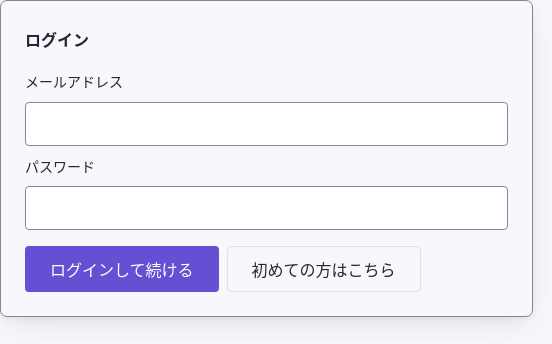
AuthPanel › does not submit twice while authentication is pending
In the field labelled "メールアドレス": (266, 124) [25, 102, 508, 146], type "reader@example.com"
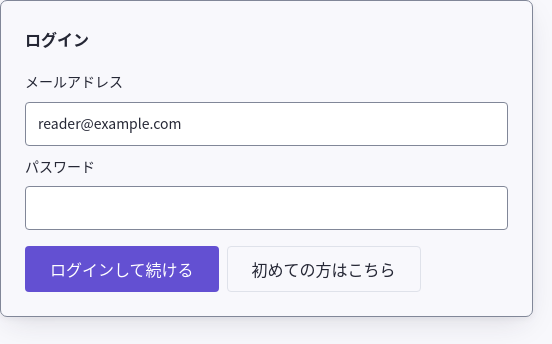
In the password field labelled "パスワード": (266, 208) [25, 186, 508, 230], type "correct-password"
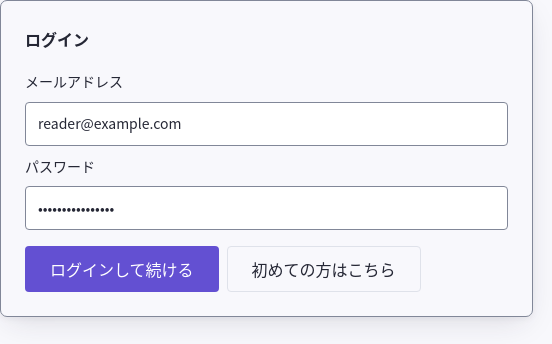
Click the button "ログインして続ける": (122, 269) [25, 246, 218, 292]
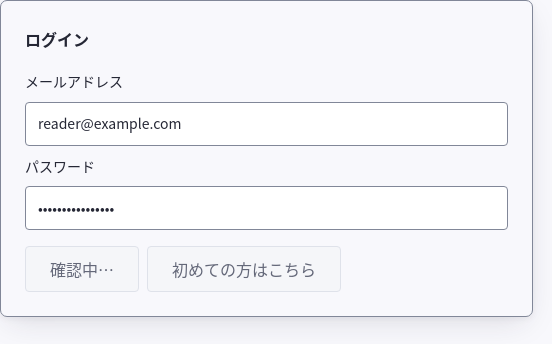
Submit the form named "ログインして続ける", box [25, 69, 508, 292]
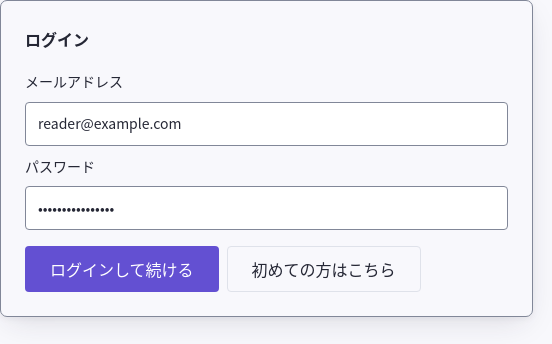
Expected: the button "ログインして続ける" is enabled, [25, 246, 218, 292]
